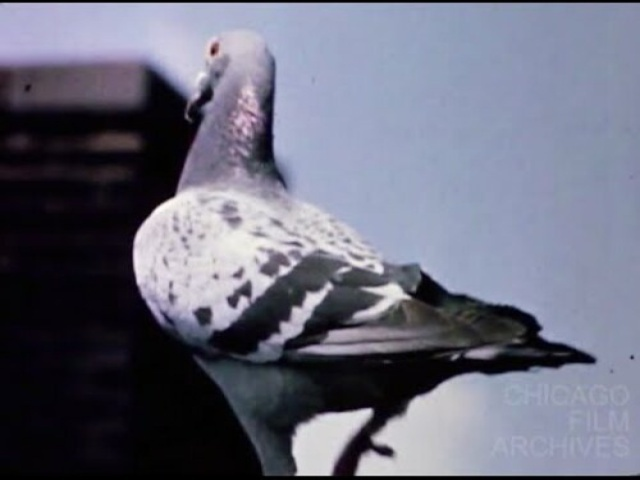Pigeon: (127, 28, 603, 468)
